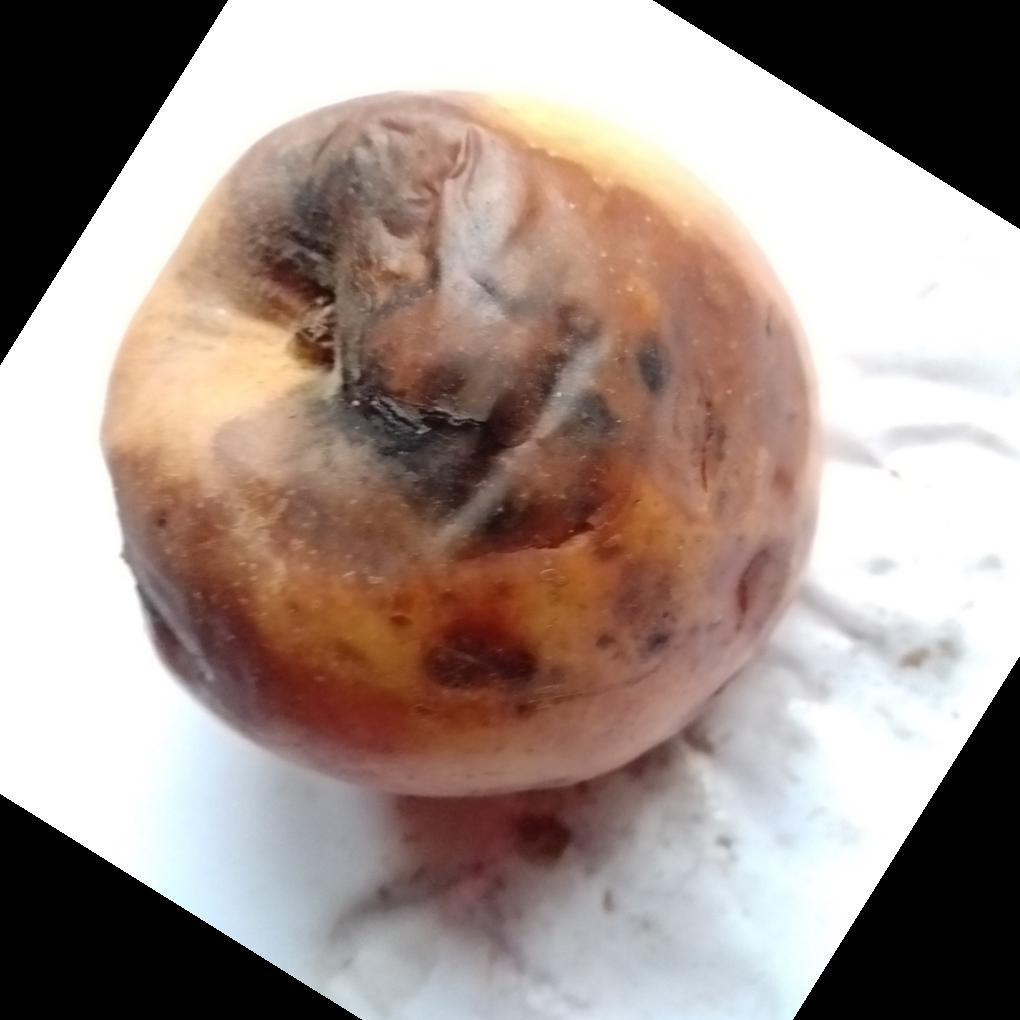FreshOrange: (98, 92, 827, 807)
